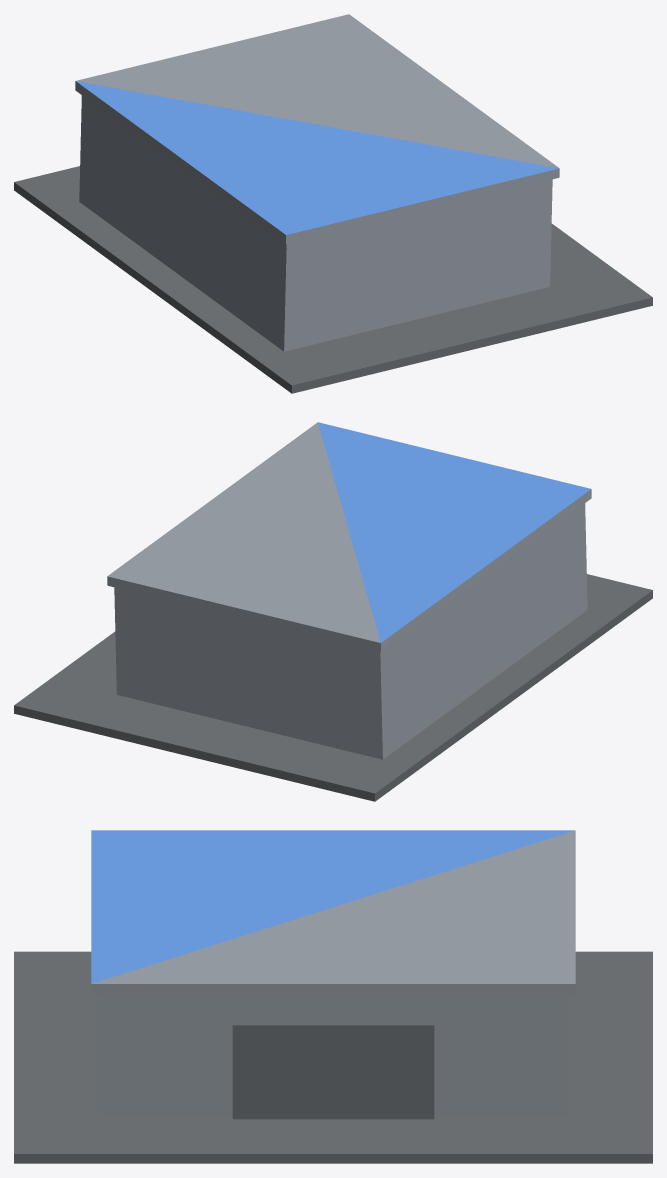
The model's file is veyran_vehicle_factory_damaged.glb.
3 views of the same model, one above another, from view 1: azimuth 30°, elevation 25°; view 2: azimuth 150°, elevation 25°; view 3: azimuth 270°, elevation 25° (orthographic). The views are drawn at different scales.
Parts seen in each view (by area): view 1: hull; view 2: hull; view 3: hull, door.
Part boxes in pixels (x1=…): hull: x1=14, y1=14, x2=652, y2=393; hull: x1=14, y1=422, x2=652, y2=801; hull: x1=14, y1=830, x2=652, y2=1163; door: x1=232, y1=1023, x2=434, y2=1119.
Size of the model in its own units: 11.4 by 3.84 by 15.2.
